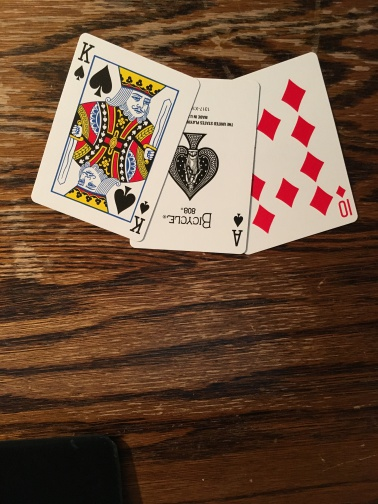ace: (160, 75, 260, 254)
king: (29, 32, 198, 239)
ten: (247, 51, 360, 254)
